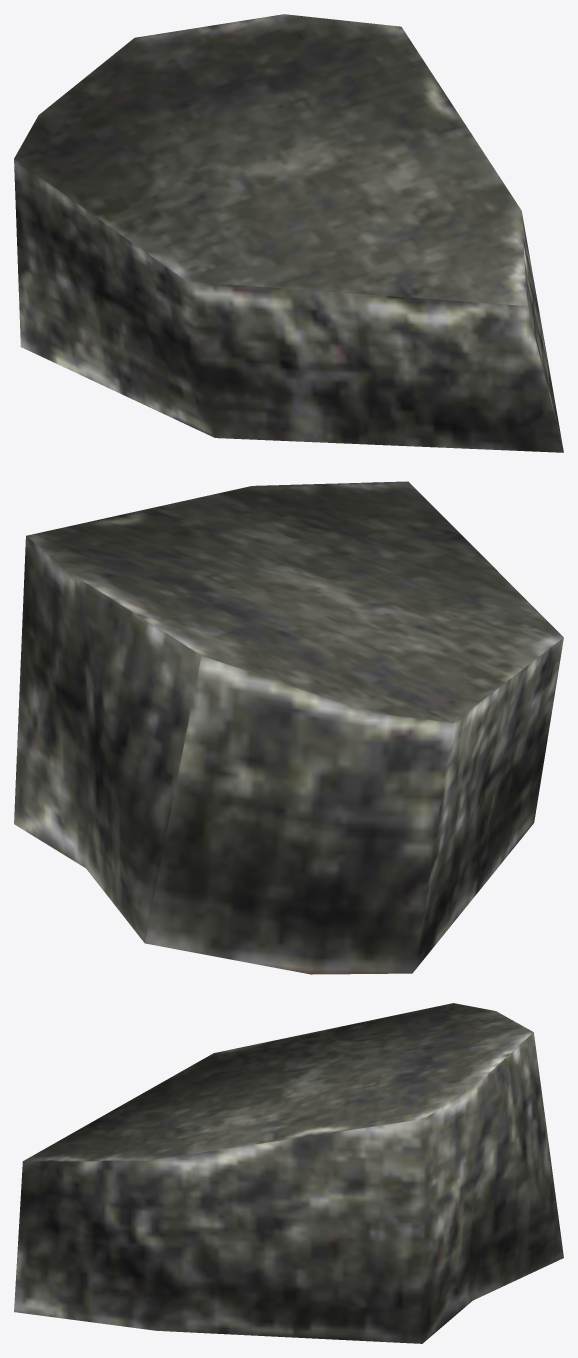
Rendered from Stones_3.fbx.
3 views of the same model, one above another, from view 1: azimuth 30°, elevation 25°; view 2: azimuth 150°, elevation 25°; view 3: azimuth 270°, elevation 25° (orthographic). The views are drawn at different scales.
Parts seen in each view (by area): view 1: Stones_3; view 2: Stones_3; view 3: Stones_3.
Part boxes in pixels (x1,y1,x2,y2): Stones_3: (14, 14, 563, 452); Stones_3: (14, 481, 563, 974); Stones_3: (14, 1003, 563, 1343).
Size of the model in its own units: 67.75 by 44.68 by 93.19.
